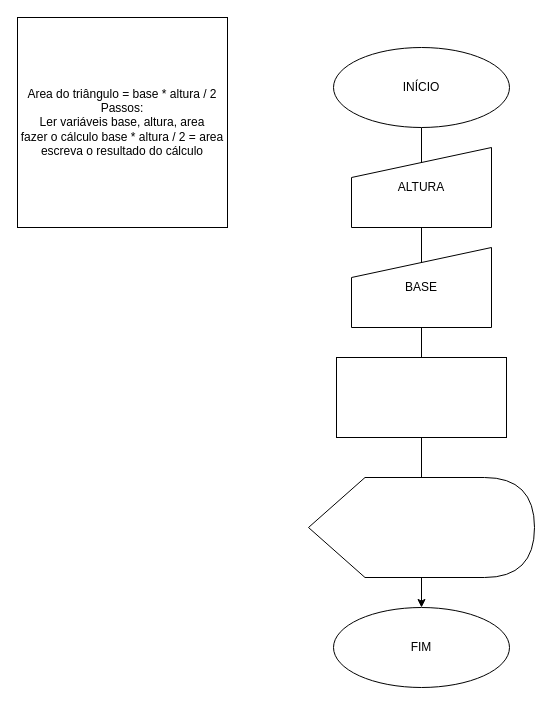
This 552x705 diagram has some shape labels left out. The shapes that lost their labels are listed below. From the top down, each one's box as (x1, y1, x2, y2) in pixels, then its label:
(336, 356, 506, 438): AREA = (BASE * ALTURA) / 2
(308, 476, 534, 578): "A AREA DO TRIÂNGULO É", AREA
